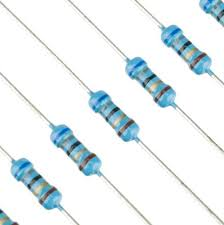resistor: (84, 86, 154, 158), (43, 121, 112, 187), (8, 153, 73, 221), (155, 18, 221, 83), (123, 50, 186, 117)
